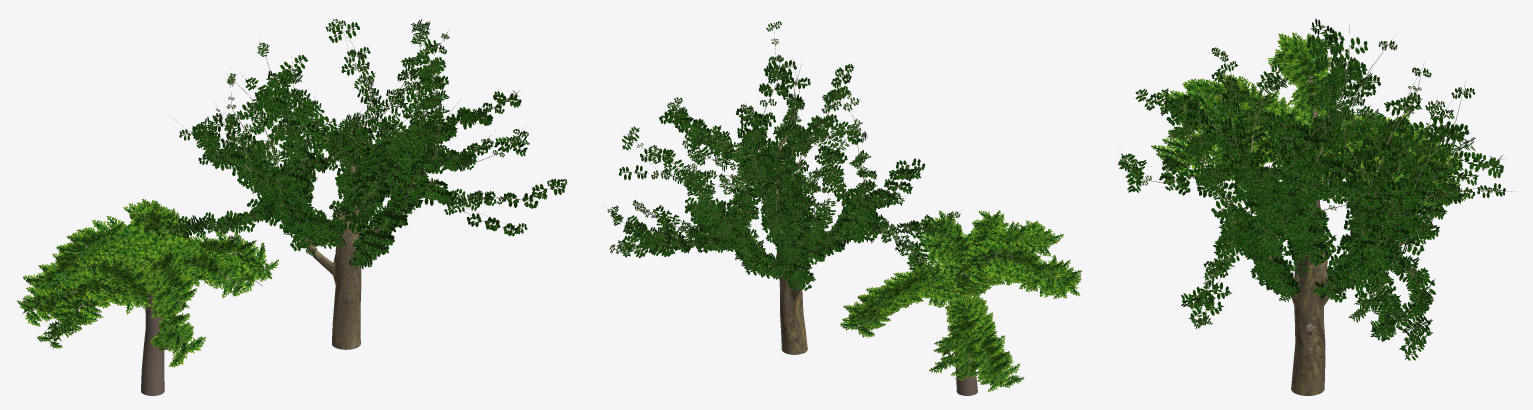
File: trees2.fbx
3 views of the same model, side by side, from view 1: azimuth 30°, elevation 25°; view 2: azimuth 150°, elevation 25°; view 3: azimuth 270°, elevation 25° (orthographic). The views are drawn at different scales.
Parts seen in each view (by area): view 1: tree.005, tree.006; view 2: tree.005, tree.006; view 3: tree.005, tree.006.
Boxes of the visible parts, x1,y1,x2,y2 form: tree.005: (136, 18, 567, 349); tree.006: (17, 199, 278, 395); tree.005: (602, 17, 960, 354); tree.006: (840, 210, 1081, 395); tree.005: (1117, 18, 1516, 395); tree.006: (1151, 32, 1470, 277).
Size of the model in its own units: 5015 by 3159 by 3052.
